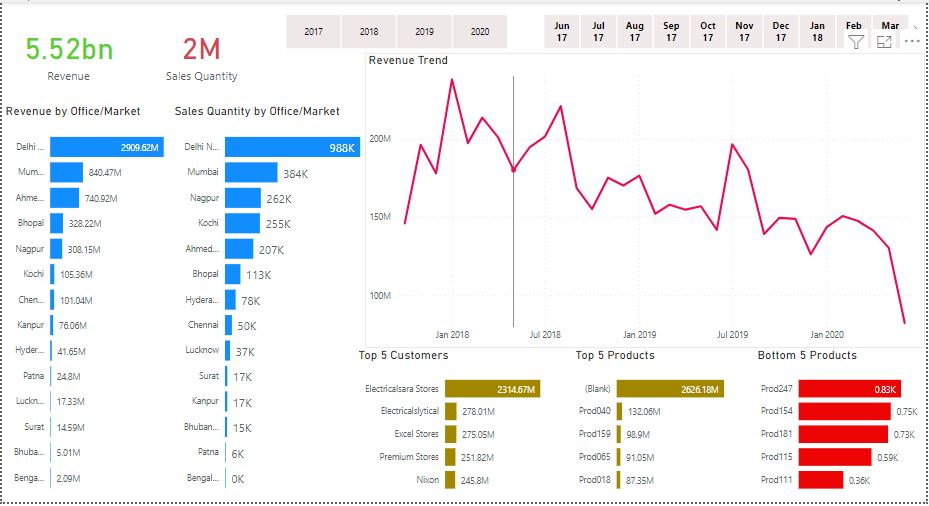

What the dashboard file says about the page in this screenshot:
{"tool":"powerbi","page":{"name":"Original","canvas":[1302,705],"ordinal":0},"visuals":[{"type":"card","fields":{"Values":["BaseMeasures.Revenue"]},"box":[0,0,187.5,143.8],"z":0},{"type":"card","fields":{"Values":["BaseMeasures.Sales Quantity"]},"box":[187.5,0,187.5,143.8],"z":1000},{"type":"barChart","title":"Revenue by Office/Market","fields":{"Y":["BaseMeasures.Revenue"],"Category":["sales markets.markets_name"]},"box":[0,143.8,238.3,561.2],"z":2000},{"type":"barChart","title":"Sales Quantity by Office/Market","fields":{"Y":["BaseMeasures.Sales Quantity"],"Category":["sales markets.markets_name"]},"box":[238.3,143.8,273.5,561.2],"z":3000},{"type":"slicer","fields":{"Values":["sales date.year"]},"box":[375.1,11.3,361,60.6],"z":4000},{"type":"slicer","fields":{"Values":["sales date.cy_date"]},"box":[738.8,11.3,562.6,60.6],"z":5000},{"type":"barChart","title":"Top 5 Customers","fields":{"Y":["BaseMeasures.Revenue"],"Category":["sales customers.custmer_name"]},"box":[497.7,487.9,306,217.1],"z":6000},{"type":"barChart","title":"Top 5 Products","fields":{"Y":["BaseMeasures.Revenue"],"Category":["sales products.product_code"]},"box":[803.7,487.9,241.1,217.1],"z":7000},{"type":"lineChart","title":"Revenue Trend","fields":{"Y":["BaseMeasures.Revenue"],"Category":["sales date.cy_date"]},"box":[511.8,71.9,789.6,415.9],"z":8000},{"type":"barChart","title":"Bottom 5 Products","fields":{"Y":["BaseMeasures.Revenue"],"Category":["sales products.product_code"]},"box":[1060.3,487.9,241.1,217.1],"z":9000}]}

Visuals, with their boxes in screenshot pixels (x1, y1, x2, y2), scaled from the page's 1302x705 canvas onto the 929x506 screenshot:
card - BaseMeasures.Revenue: 0,0,134,103
card - BaseMeasures.Sales Quantity: 134,0,268,103
"Revenue by Office/Market" barChart: 0,103,170,505
"Sales Quantity by Office/Market" barChart: 170,103,365,505
slicer - sales date.year: 268,8,525,52
slicer - sales date.cy_date: 527,8,928,52
"Top 5 Customers" barChart: 355,350,573,505
"Top 5 Products" barChart: 573,350,745,505
"Revenue Trend" lineChart: 365,52,928,350
"Bottom 5 Products" barChart: 757,350,928,505
